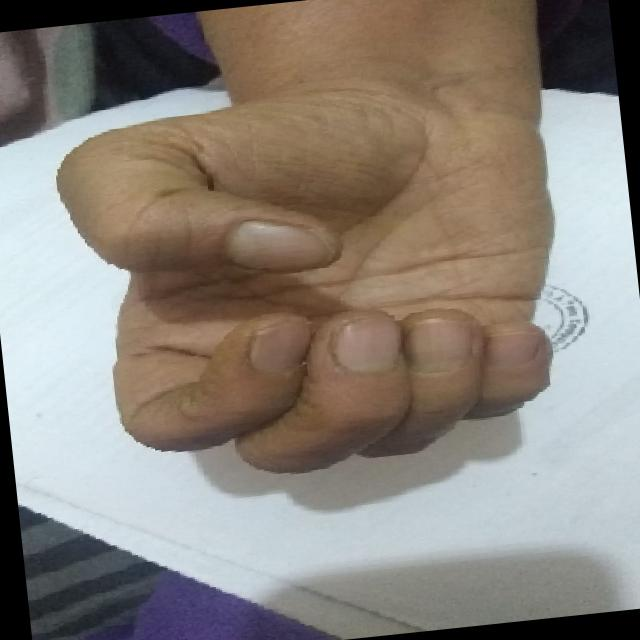Nail: (226, 220, 335, 272), (331, 317, 400, 374), (408, 317, 472, 372), (250, 316, 310, 372), (489, 330, 541, 365)
